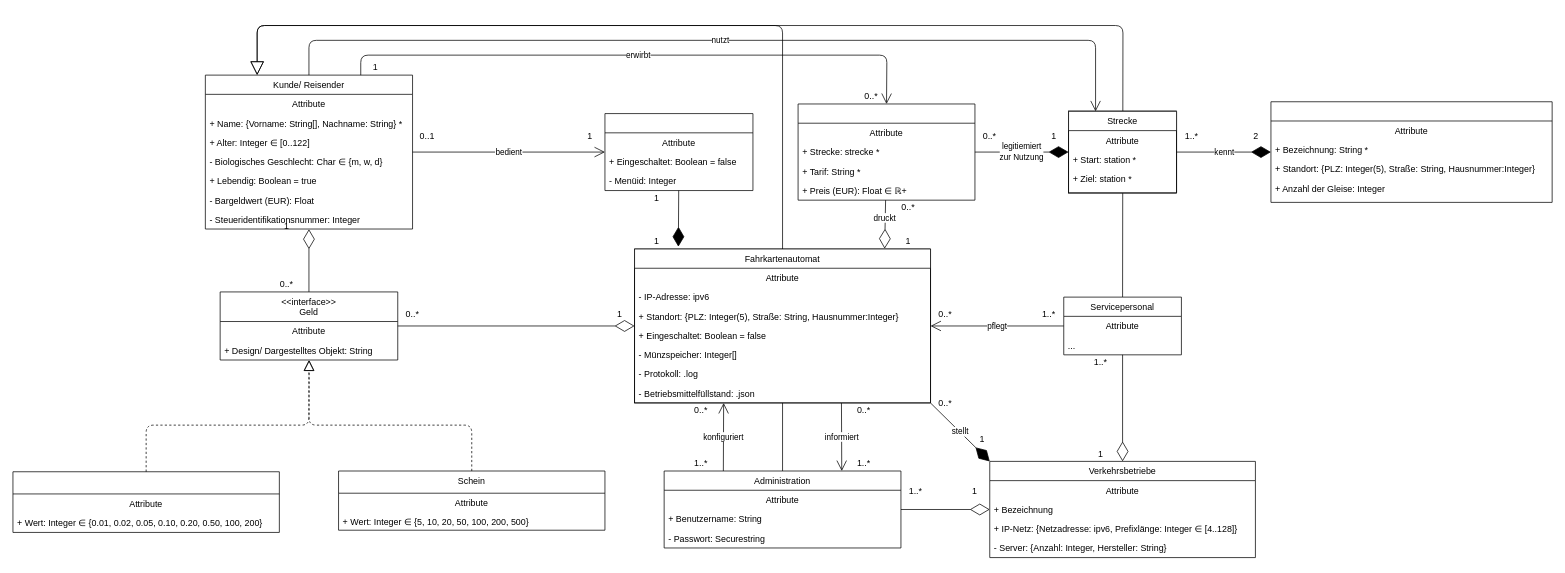
Some shapes in this 1565 by 573 pixel diagram are drawn without their labels. Each missing label, with the box of its shape:
Display: (604, 113, 753, 191)
Einzelfahrkarte: (797, 103, 975, 200)
Münze: (12, 471, 279, 532)
Station: (1270, 101, 1552, 202)
